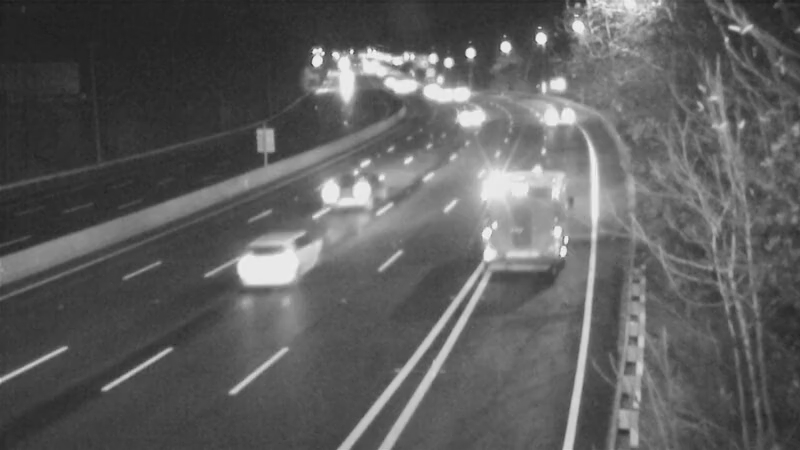vehicle: (313, 144, 393, 224), (238, 205, 318, 285), (477, 176, 557, 256), (402, 63, 452, 113), (436, 67, 486, 117), (413, 72, 463, 122), (524, 87, 574, 137), (442, 85, 492, 135)
